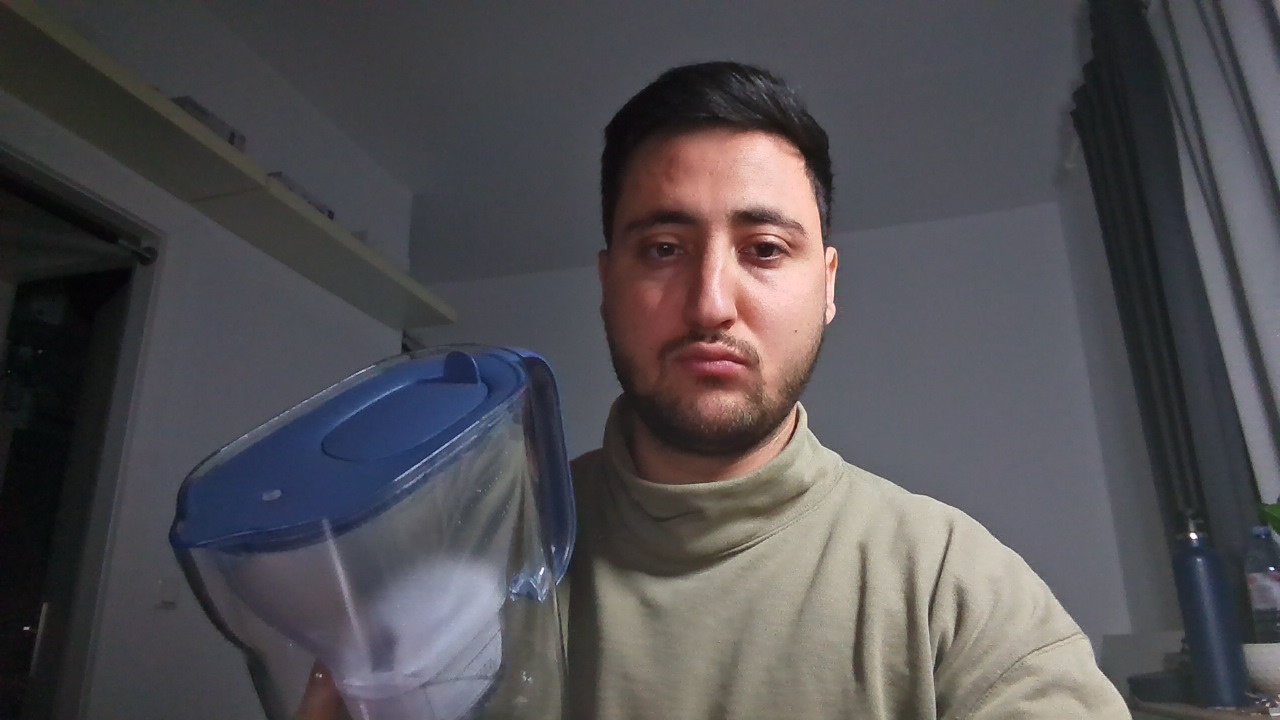Wasserflasche: (1151, 496, 1257, 713)
Wasserkanne: (135, 311, 600, 720)
me: (576, 40, 864, 479)
